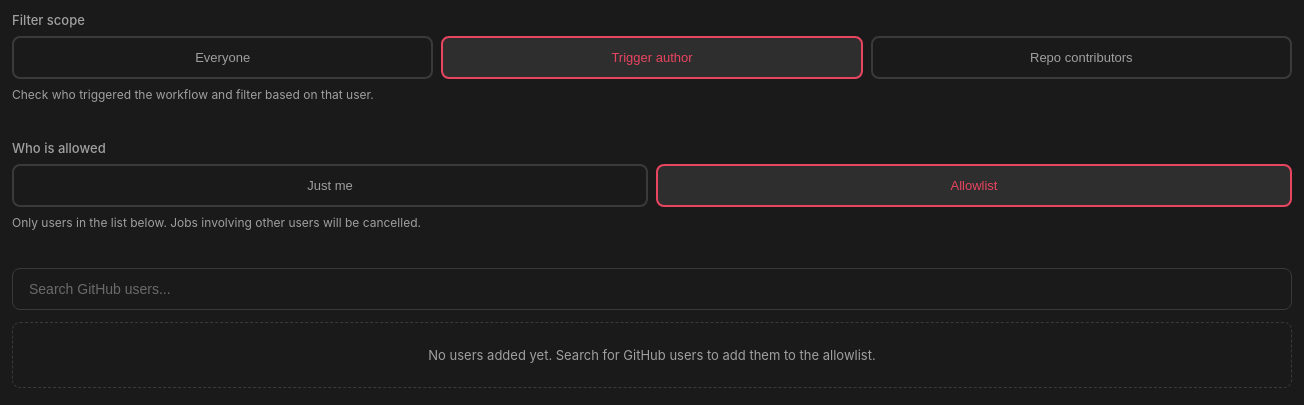
Scenario: UserFilterSettings › Allowlist Mode › should display search results
This screenshot has width=1304, height=405.
Type "user" into the field with placeholder "Search GitHub users...".
click(652, 289); type("user")  # box [12,268,1292,310]
Wait 1000 ms
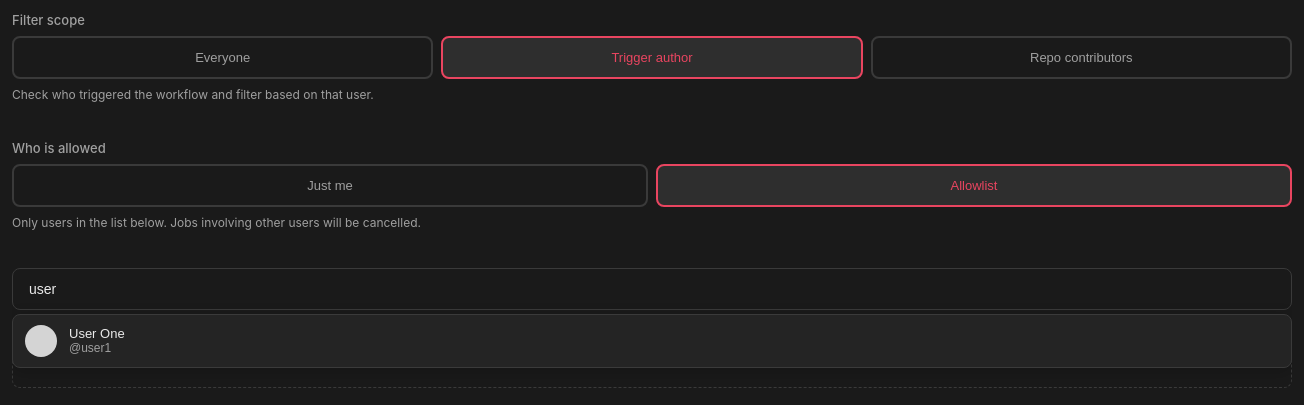
expect the text "User One" is shown: met, box [69,326,125,341]
expect the text "@user1" is shown: met, box [69,341,111,355]
